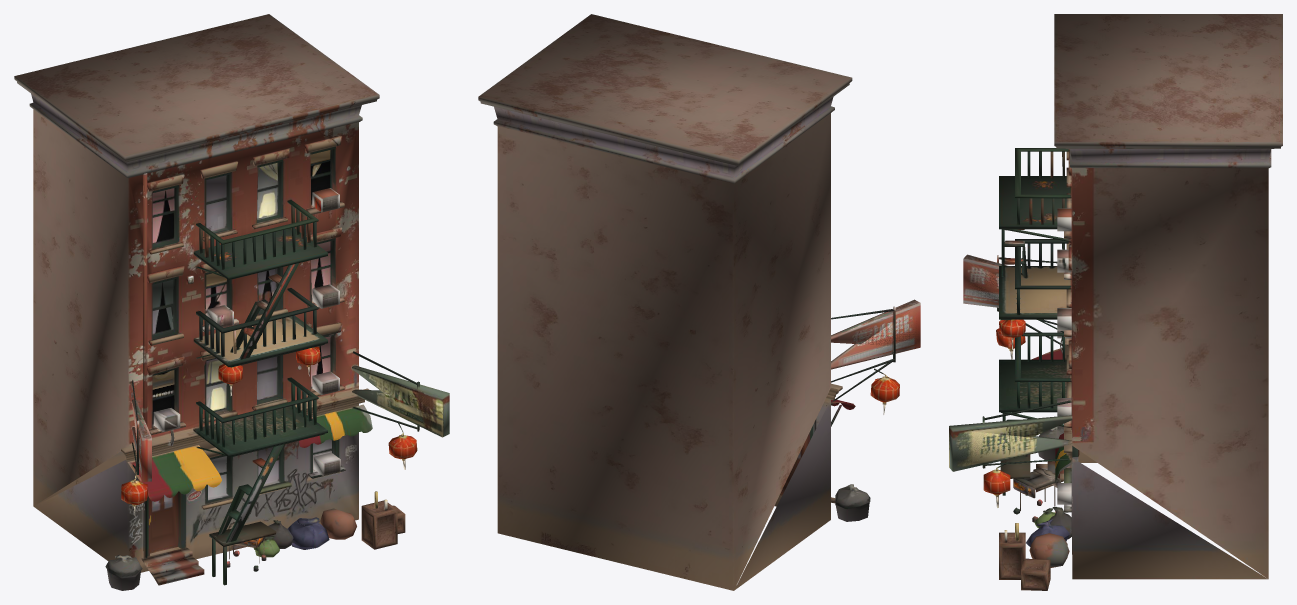
Rendered from selected.glb.
The picture shows the model from 3 angles, left to right: view 1: azimuth 30°, elevation 25°; view 2: azimuth 150°, elevation 25°; view 3: azimuth 270°, elevation 25°; orthographic projection. The views are drawn at different scales.
Parts seen in each view (by area): view 1: tripo_node_971a7839-d5eb-440e-a773-0f48626f3c65; view 2: tripo_node_971a7839-d5eb-440e-a773-0f48626f3c65; view 3: tripo_node_971a7839-d5eb-440e-a773-0f48626f3c65.
Part boxes in pixels (x1,y1,x2,y2): tripo_node_971a7839-d5eb-440e-a773-0f48626f3c65: (14,14,449,590); tripo_node_971a7839-d5eb-440e-a773-0f48626f3c65: (478,14,920,590); tripo_node_971a7839-d5eb-440e-a773-0f48626f3c65: (949,14,1282,590).
Bounding box in the file's own units: 0.7324 × 0.998 × 0.6816.
1 material, 1 textured.
